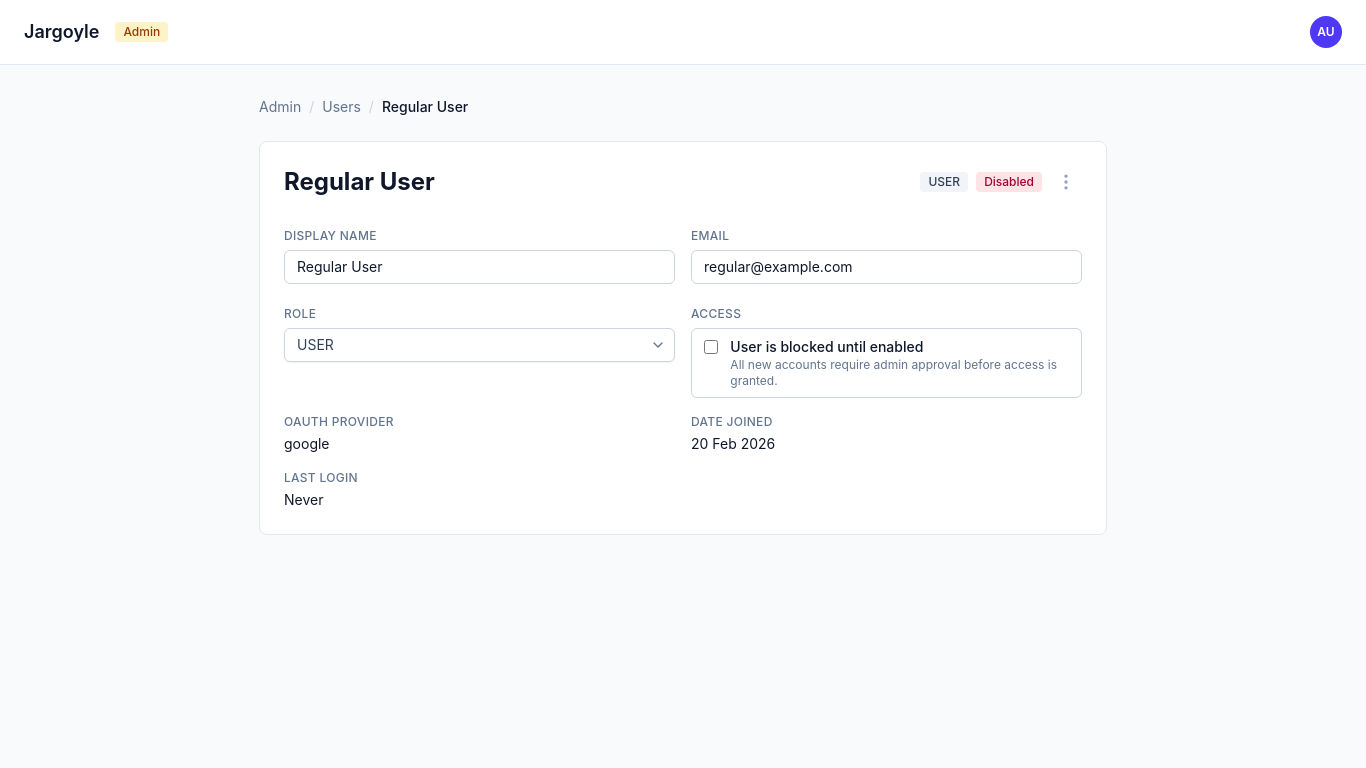
Scenario: AdminUserDetailsPage › lets admins enable a disabled user
This screenshot has width=1366, height=768.
Expected: the heading "Regular User" is shown, [284,166,435,198]
Expected: the text "Disabled" is shown, [976,172,1042,192]
Click the checkbox at (711, 347), box [704,339,718,355]
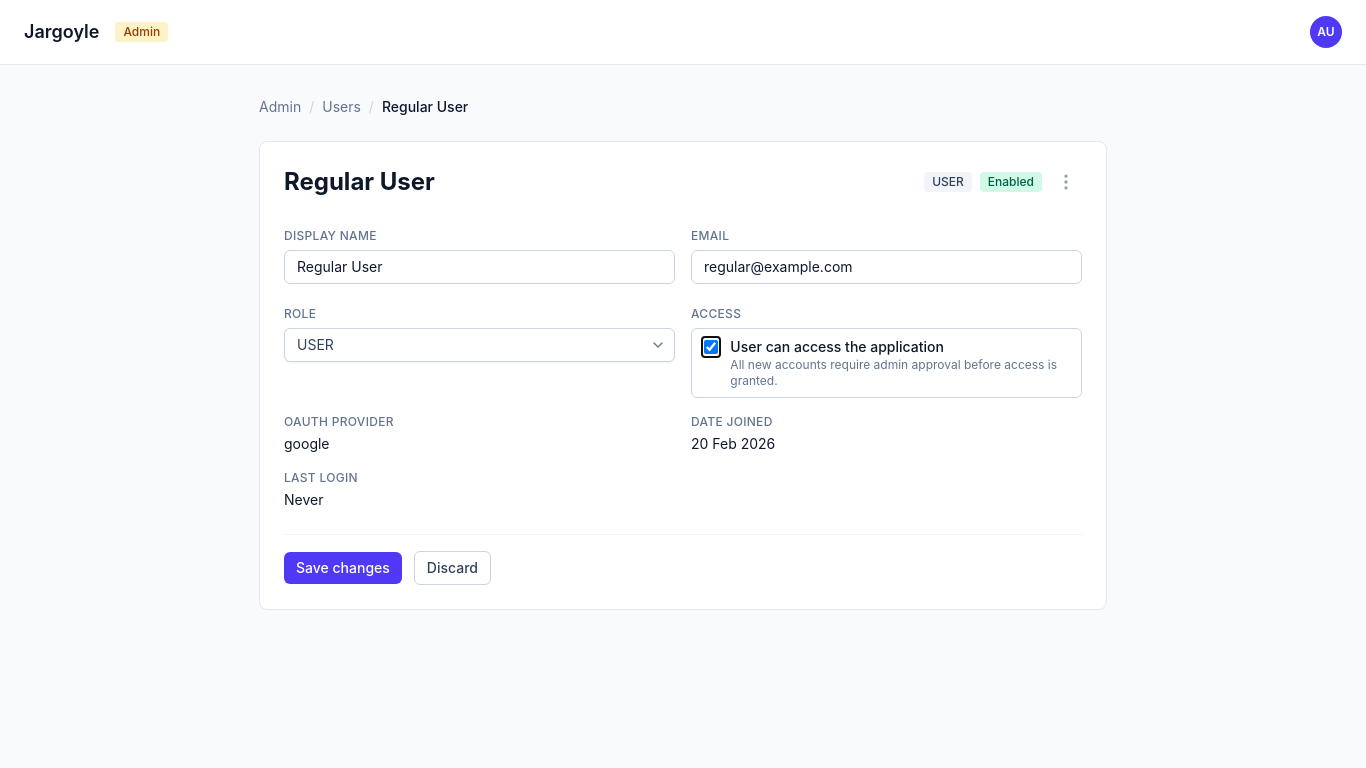
Click the button "Save changes" at (343, 568), box [284,552,402,584]
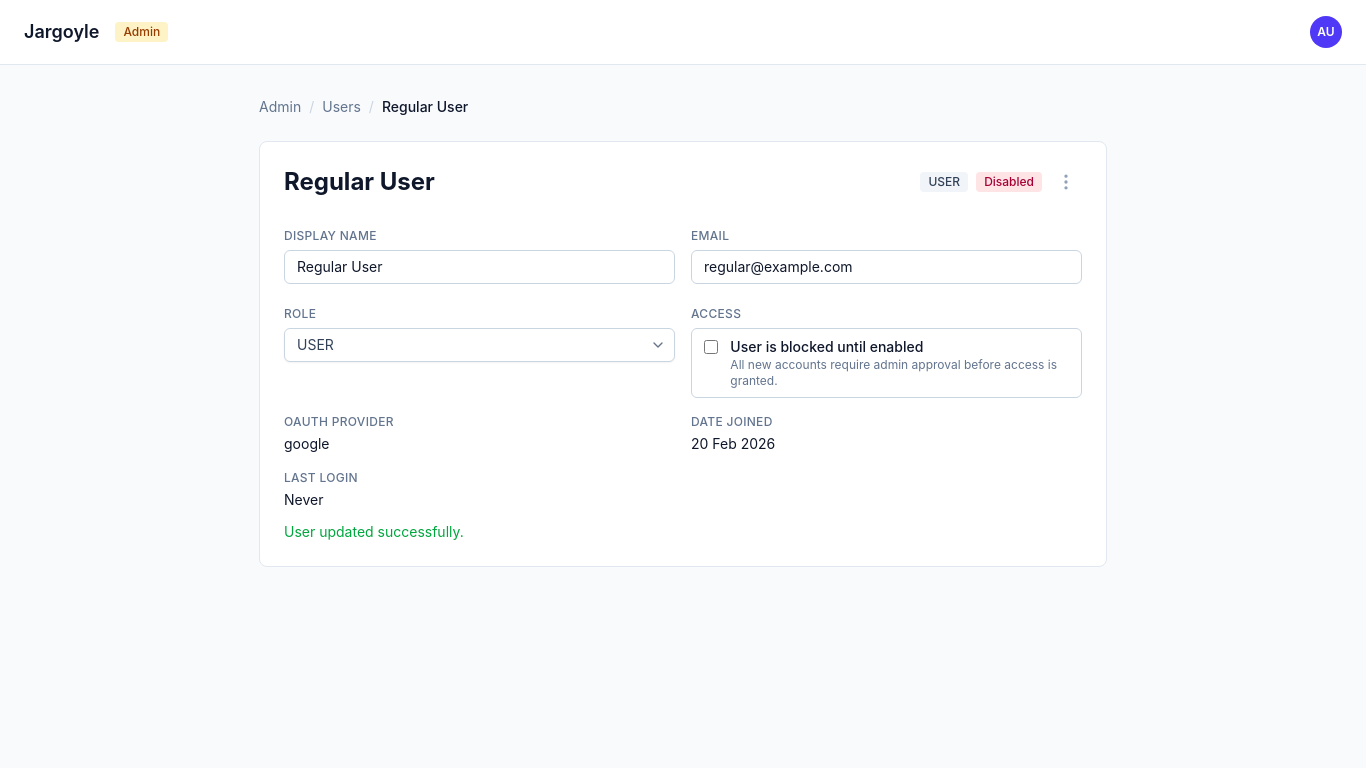
Now the text "User updated successfully." is shown, box [284,523,464,540]
